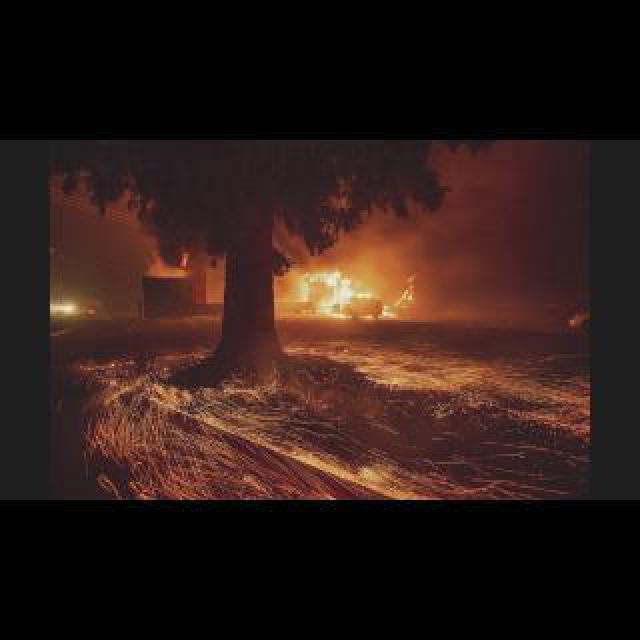Fire: (302, 270, 352, 314), (394, 276, 420, 306), (356, 292, 374, 296), (384, 304, 390, 314)
